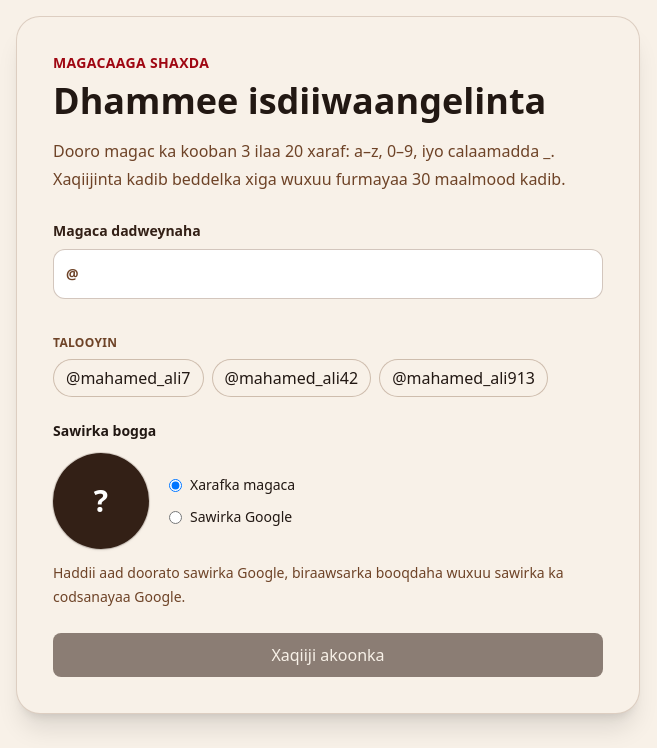
Test case: /register username selection › blocks submission while the username is invalid or reserved
This screenshot has width=657, height=748.
Clear the field at (340, 274), box 79,250 -> 602,298
Expected: the button "Xaqiiji akoonka" is disabled, 53,633 -> 603,677
Type "ab" into the field at (340, 274), box 79,250 -> 602,298
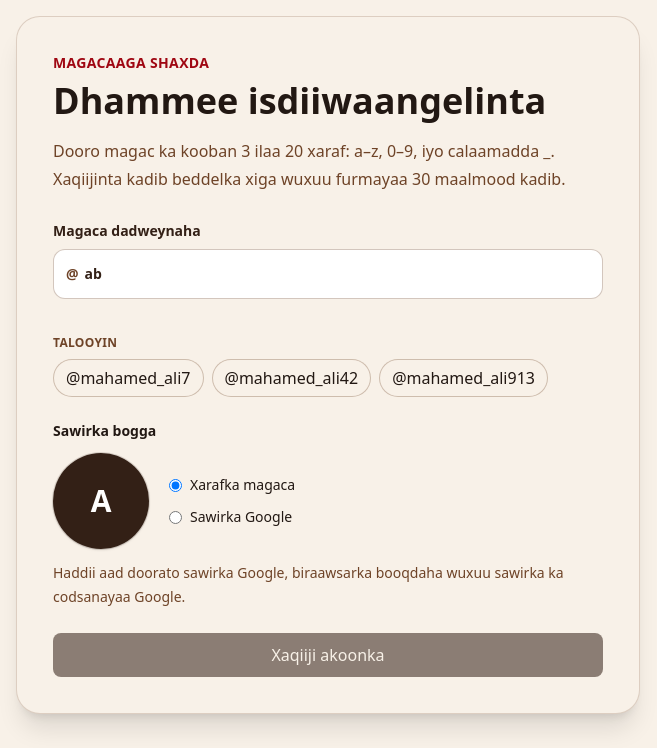
Expected: the button "Xaqiiji akoonka" is disabled, 53,633 -> 603,677
Replace the text in the field with "Mahamed" at (340, 274), box 79,250 -> 602,298
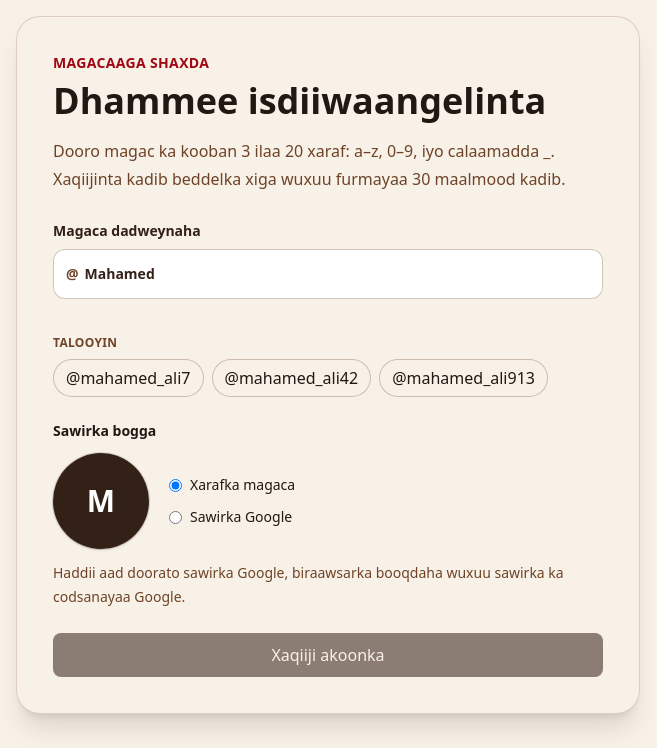
Expected: the button "Xaqiiji akoonka" is disabled, 53,633 -> 603,677
Replace the text in the field with "with-dash" at (340, 274), box 79,250 -> 602,298
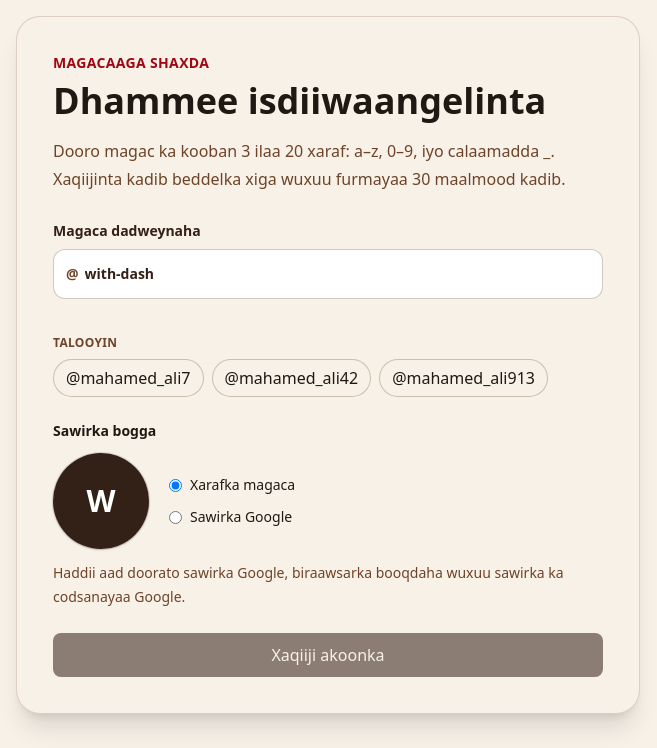
Expected: the button "Xaqiiji akoonka" is disabled, 53,633 -> 603,677
Replace the text in the field with "admin" at (340, 274), box 79,250 -> 602,298
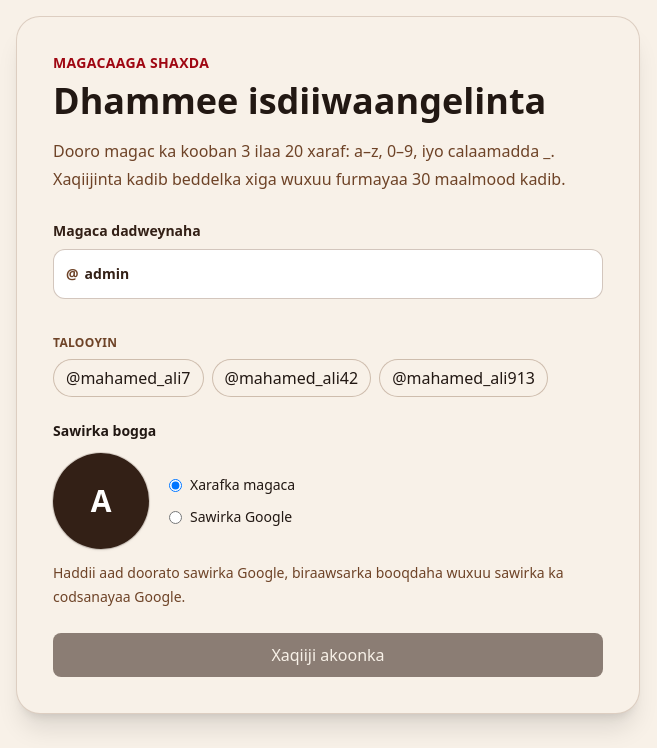
Expected: the button "Xaqiiji akoonka" is disabled, 53,633 -> 603,677
Replace the text in the field with "mahamed_ok" at (340, 274), box 79,250 -> 602,298
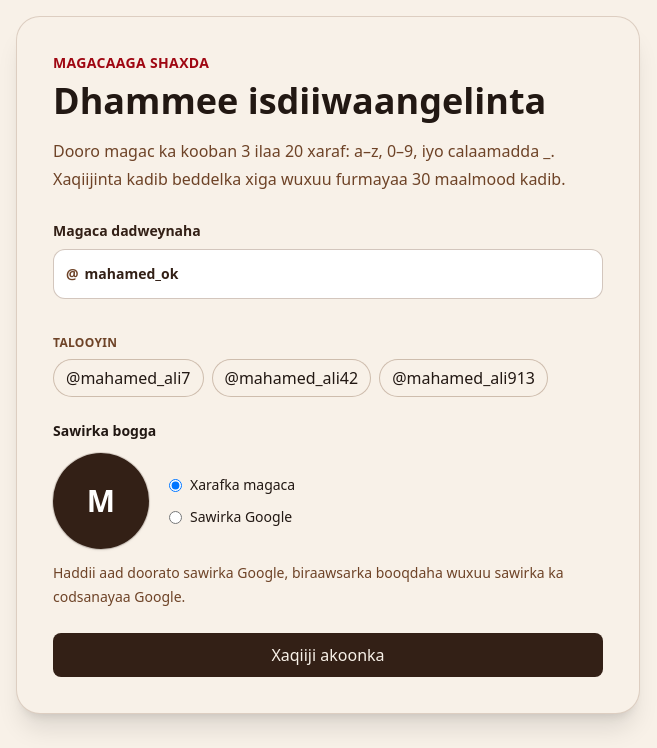
Expected: the button "Xaqiiji akoonka" is enabled, 53,633 -> 603,677
